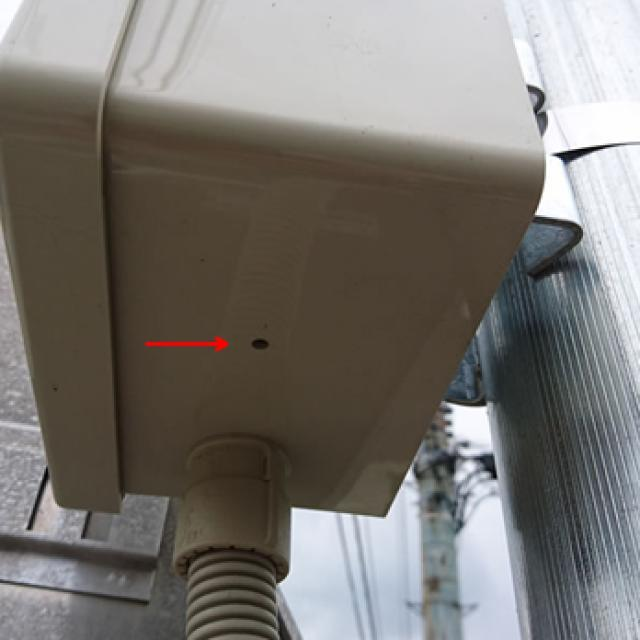hidden camera: (245, 333, 276, 358)
